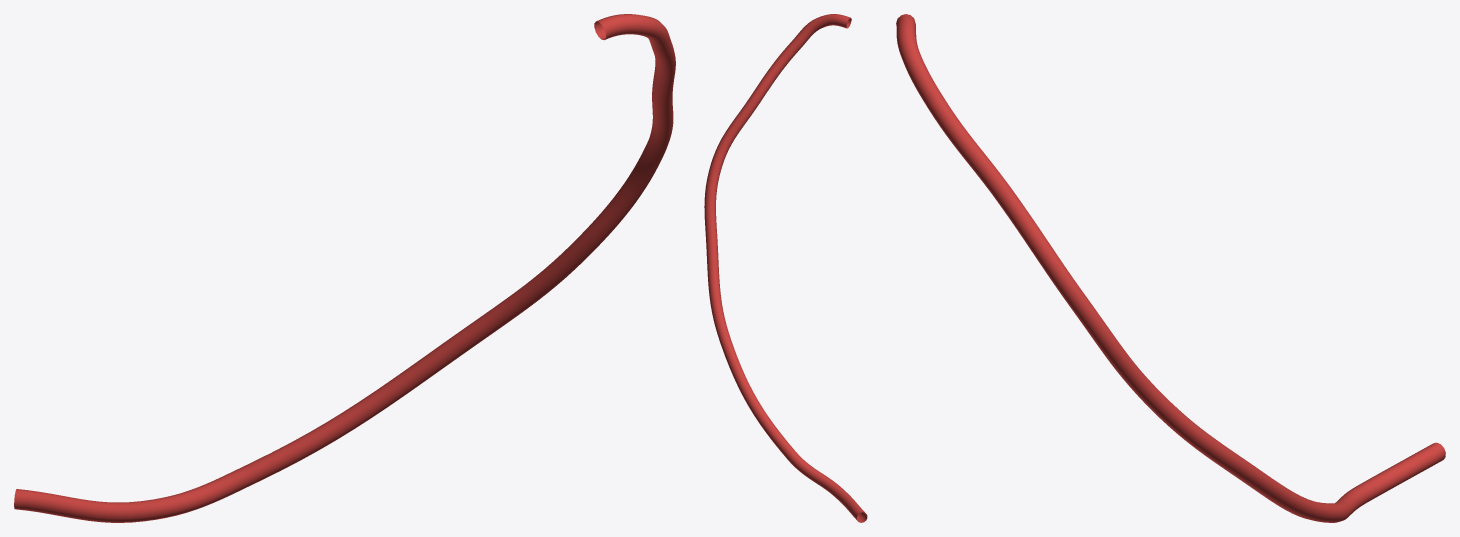
3 renders of one model, left to right at view 1: azimuth 30°, elevation 25°; view 2: azimuth 150°, elevation 25°; view 3: azimuth 270°, elevation 25°, orthographic. The views are drawn at different scales.
Parts seen in each view (by area): view 1: 左侧第1肋间后动脉; view 2: 左侧第1肋间后动脉; view 3: 左侧第1肋间后动脉.
Part boxes in pixels (left/top/right/bottom): 左侧第1肋间后动脉: left=14, top=14, right=675, bottom=522; 左侧第1肋间后动脉: left=704, top=14, right=867, bottom=522; 左侧第1肋间后动脉: left=896, top=14, right=1445, bottom=522.
Size of the model in its own units: 0.0766 by 0.0987 by 0.0829.
